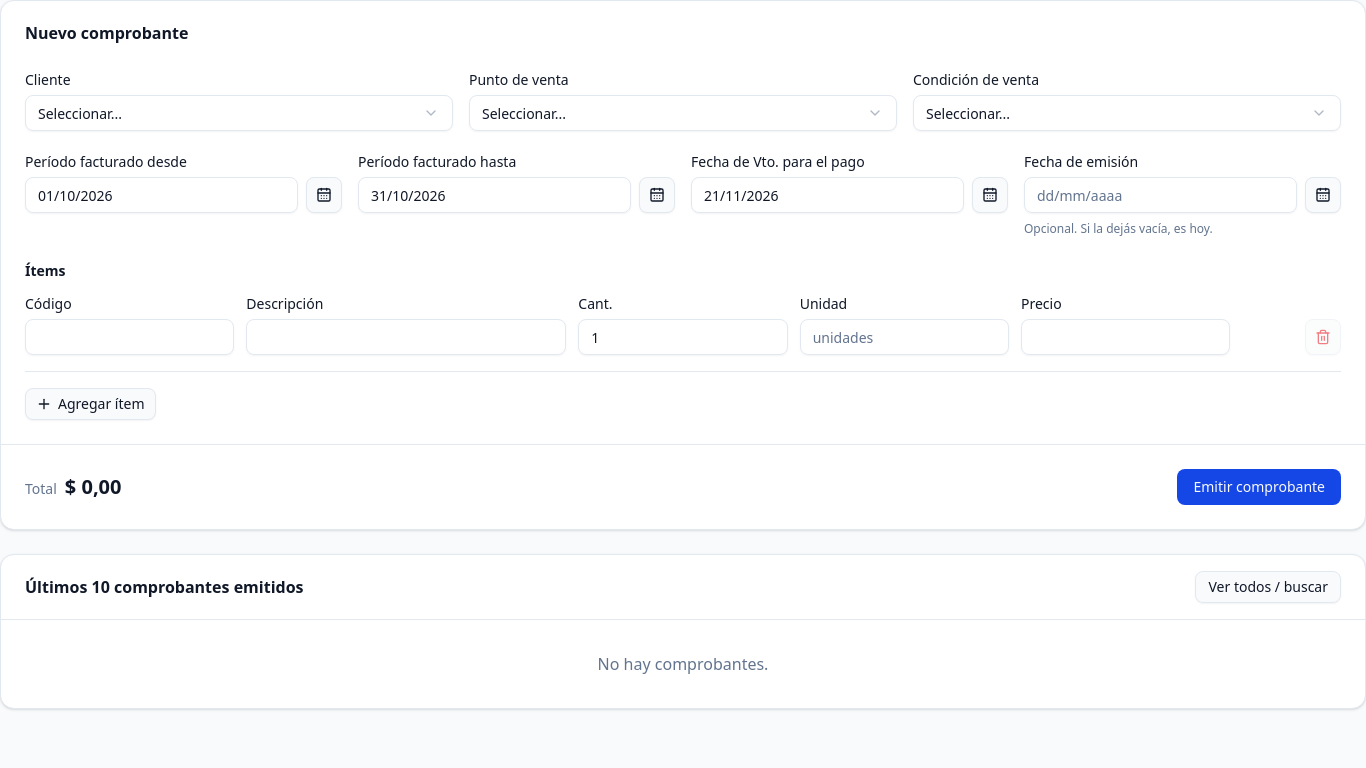
Invoices (facturar) › calcula el total redondeando cada línea a 2 decimales (caso de QA de ARCA 10056)
Check: the text "Nuevo comprobante" is shown, box [25,22,188,44]
Replace the text in the number field labelled "Cant." with "2.5": (683, 337) [578,319,788,355]
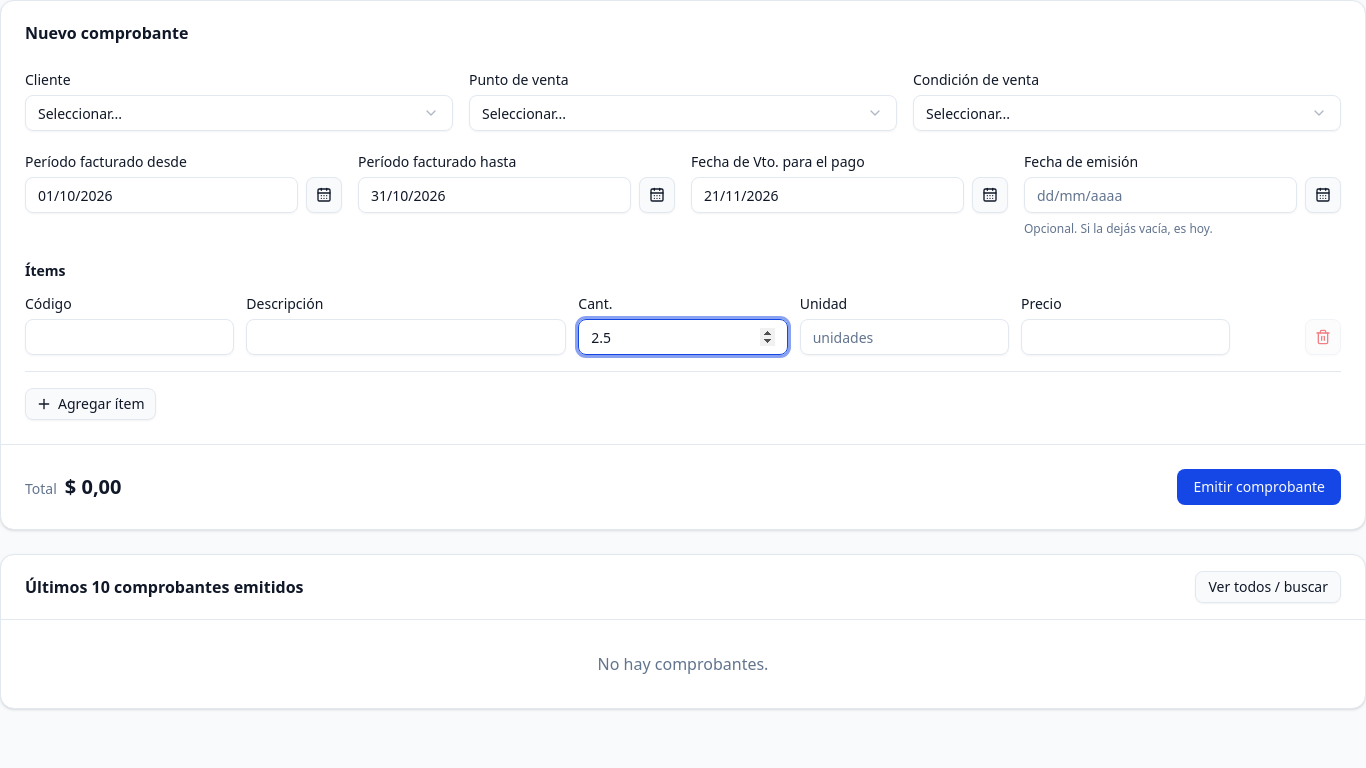
In the number field labelled "Precio": (1126, 337) [1021,319,1230,355], type "38784.25"
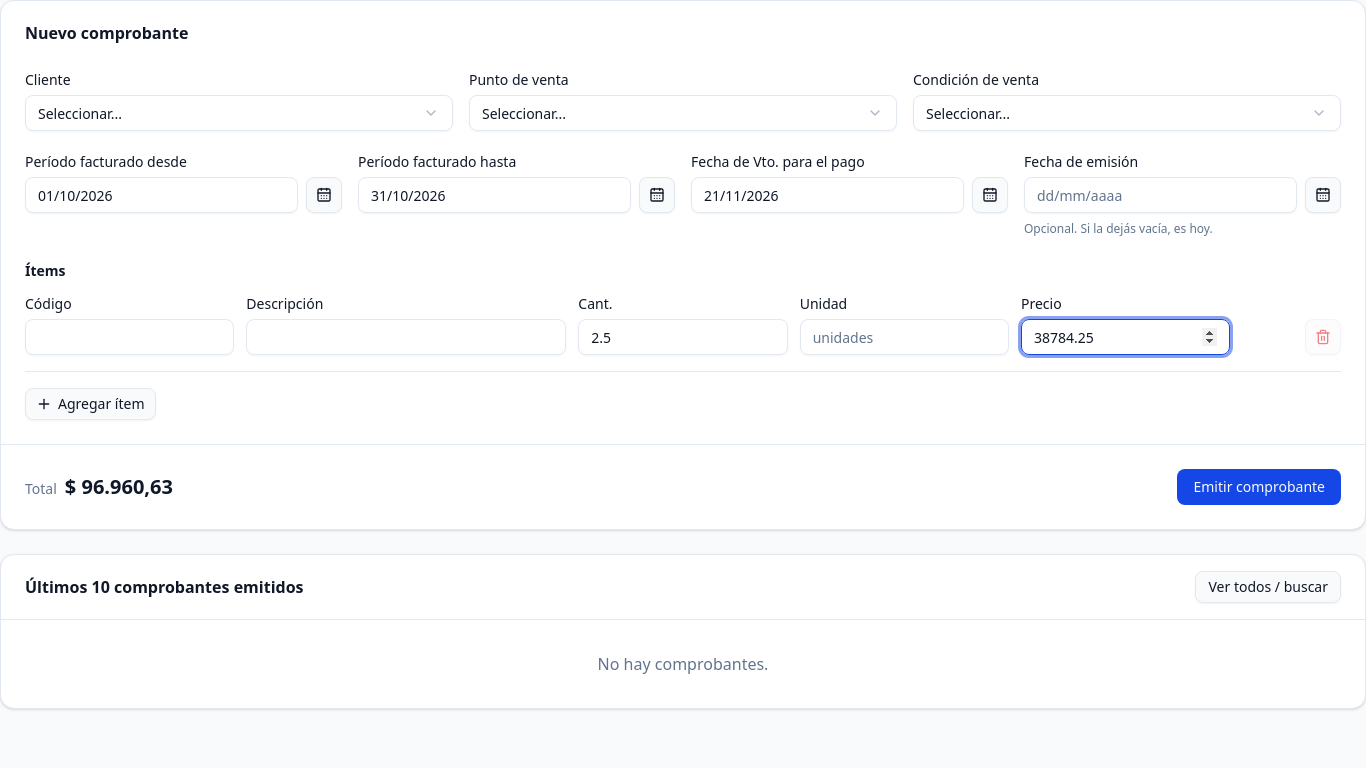
Check: the text "$ 96.960,63" is shown, box [65,473,173,501]
